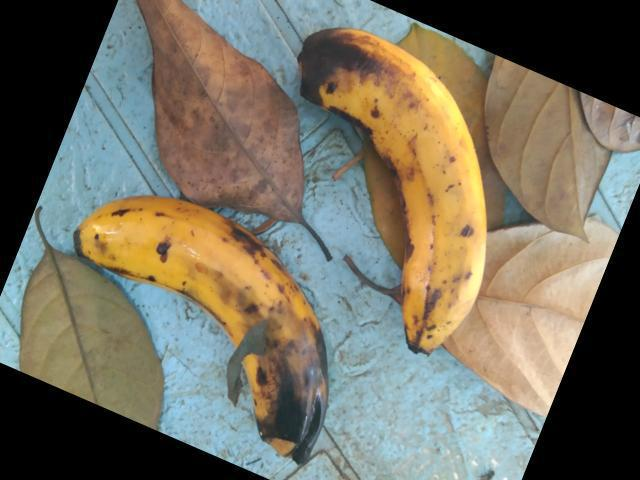overripe: (378, 54, 515, 349), (68, 184, 270, 327)
rotten: (204, 277, 356, 479), (283, 3, 418, 166)
